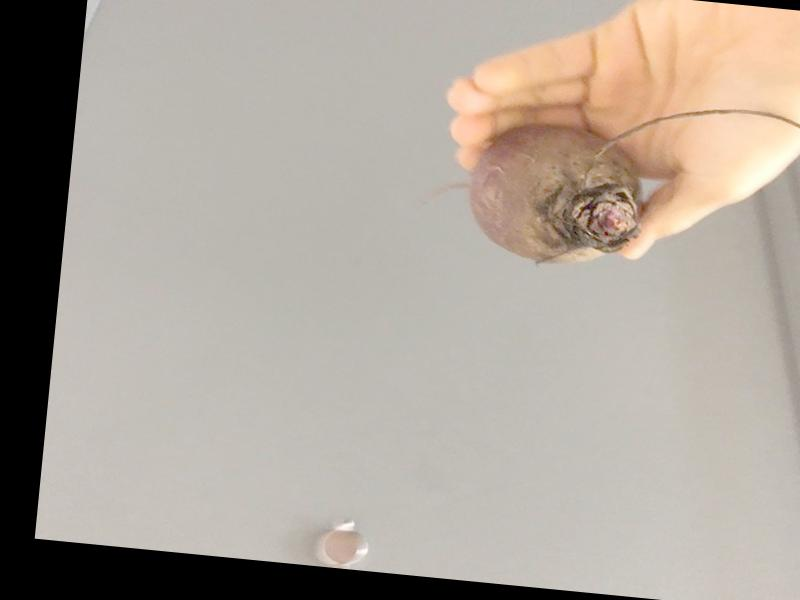Beet: (415, 76, 800, 289)
